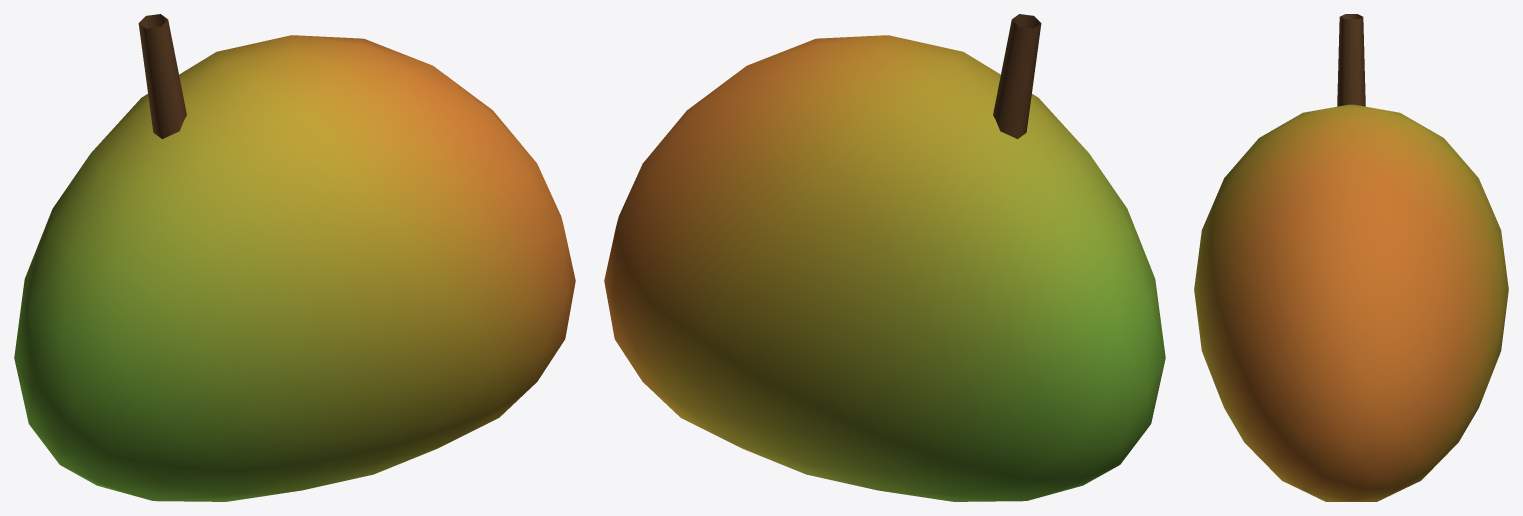
Rendered from fruit_mango.glb.
3 renders of one model, left to right at view 1: azimuth 30°, elevation 25°; view 2: azimuth 150°, elevation 25°; view 3: azimuth 270°, elevation 25°, orthographic. The views are drawn at different scales.
Parts seen in each view (by area): view 1: fruit_mango; view 2: fruit_mango; view 3: fruit_mango.
Part boxes in pixels (bbox=[...]): fruit_mango: bbox=[14, 14, 575, 501]; fruit_mango: bbox=[604, 14, 1165, 501]; fruit_mango: bbox=[1194, 14, 1508, 501].
Bounding box in the file's own units: 0.26 × 0.2309 × 0.17.
